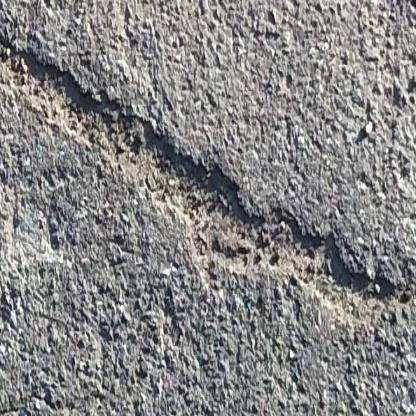Cracks: (0, 24, 416, 338), (385, 0, 416, 45), (0, 400, 66, 416)
